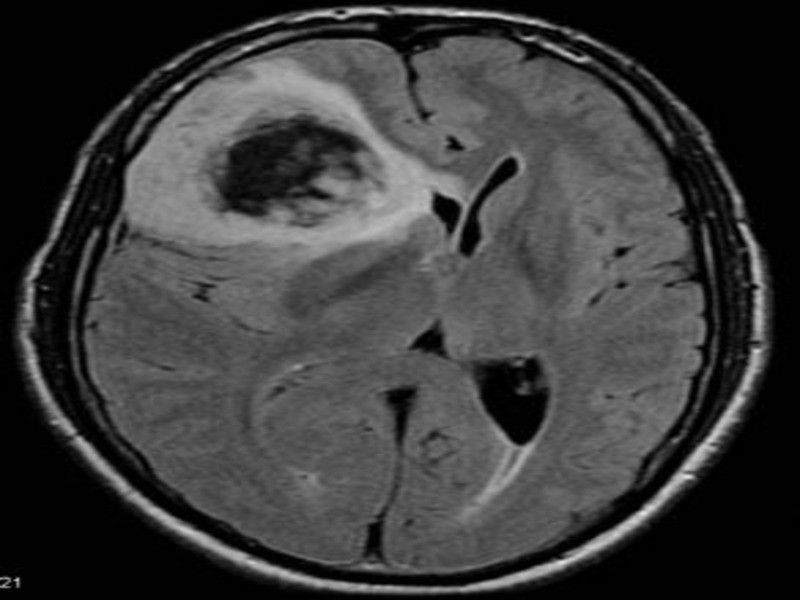tumor: (189, 88, 432, 263)
